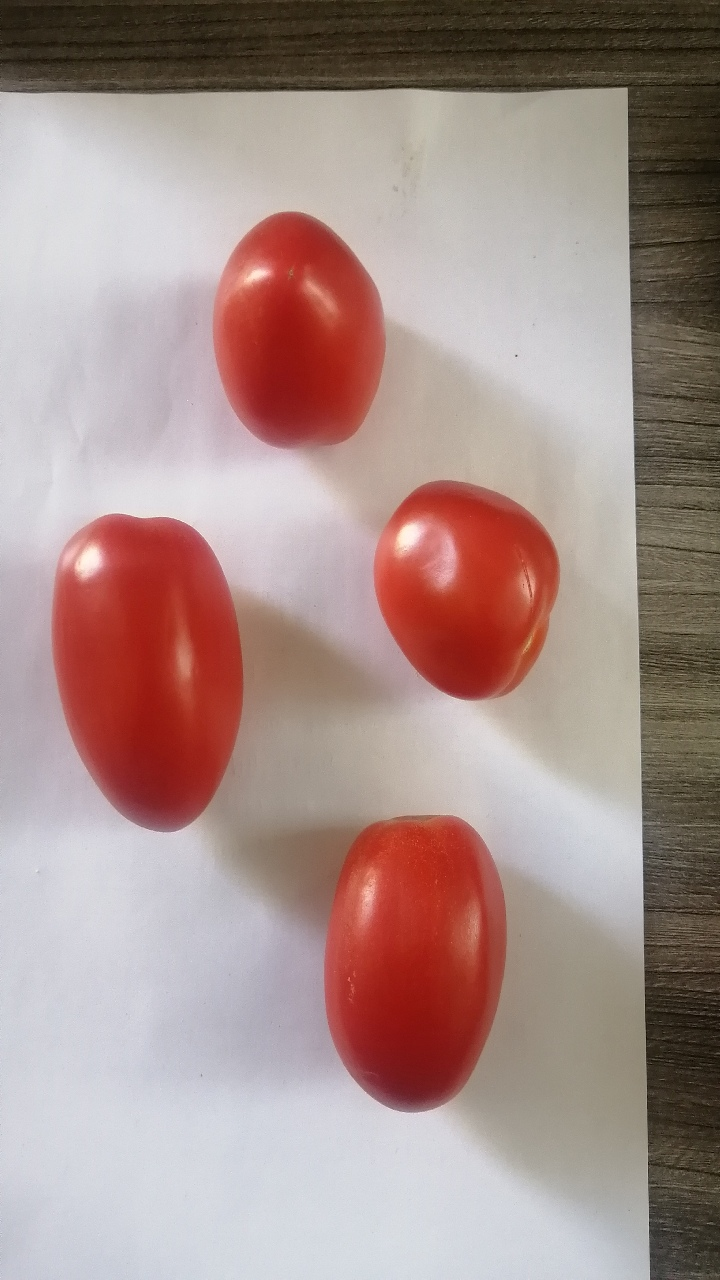tomateRojo: (26, 492, 251, 845), (303, 786, 523, 1139), (189, 183, 415, 485), (364, 459, 563, 720)
